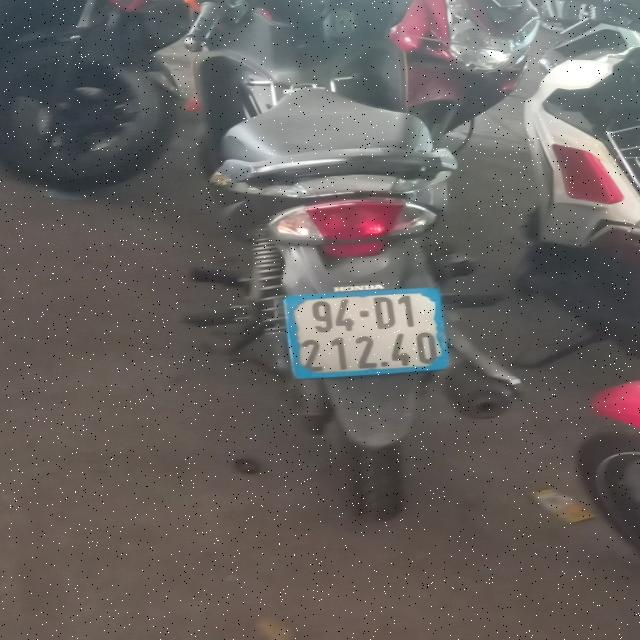0: (416, 332, 439, 364)
1: (329, 336, 348, 371), (398, 296, 415, 327)
2: (302, 339, 324, 374), (354, 336, 377, 369)
4: (336, 299, 356, 332), (392, 333, 410, 367)
9: (312, 302, 333, 332)
D: (373, 296, 396, 331)
